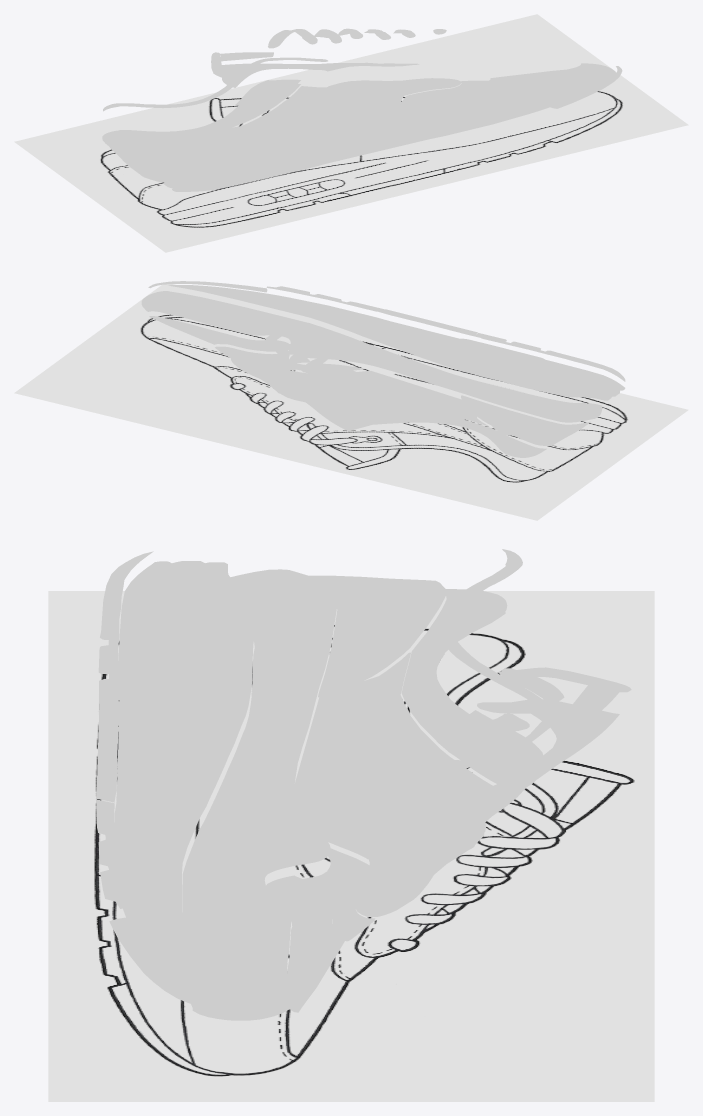
File: AirMax1.FBX
The picture shows the model from 3 angles, top to bottom: view 1: azimuth 30°, elevation 25°; view 2: azimuth 150°, elevation 25°; view 3: azimuth 270°, elevation 25°; orthographic projection. The views are drawn at different scales.
Visible parts, largest first — view 1: Plane001, Line006, Line007, Line010, Line013, Line008, Line009, Line018, Line001, Line023, Line022, Line014 (+5 smaller); view 2: Plane001, Line007, Line006, Line010, Line013, Line008, Line009, Line018, Line001, Line023, Line022, Line005 (+3 smaller); view 3: Plane001, Line007, Line006, Line010, Line013, Line008, Line009, Line022, Line001, Line018, Line023, Line005 (+5 smaller).
Boxes of the visible parts, x1,y1,x2,y2 form: Plane001: (14,14,688,252); Line006: (159,75,613,191); Line007: (139,63,615,182); Line010: (239,78,461,138); Line013: (102,69,565,146); Line008: (109,134,253,173); Line009: (195,100,344,135); Line018: (103,52,327,111); Line001: (177,102,550,188); Line023: (221,62,419,88); Line022: (268,28,446,48); Line014: (235,79,300,106); Plane001: (14,284,688,520); Line007: (141,291,602,422); Line006: (168,285,625,400); Line010: (231,355,477,419); Line013: (149,316,546,457); Line008: (461,395,590,445); Line009: (346,379,487,425); Line018: (307,377,523,435); Line001: (266,286,625,381); Line023: (246,359,387,431); Line022: (230,316,356,377); Line005: (452,338,546,365); Plane001: (48,591,654,1101); Line007: (182,569,337,1020); Line006: (114,561,254,997); Line010: (294,676,492,916); Line013: (266,589,507,1012); Line008: (309,575,446,697); Line009: (327,652,449,795); Line022: (390,668,564,816); Line001: (96,551,153,908); Line018: (436,549,631,764); Line023: (424,699,619,861); Line005: (144,622,183,712).
Size of the model in its own units: 271 by 33.52 by 136.
